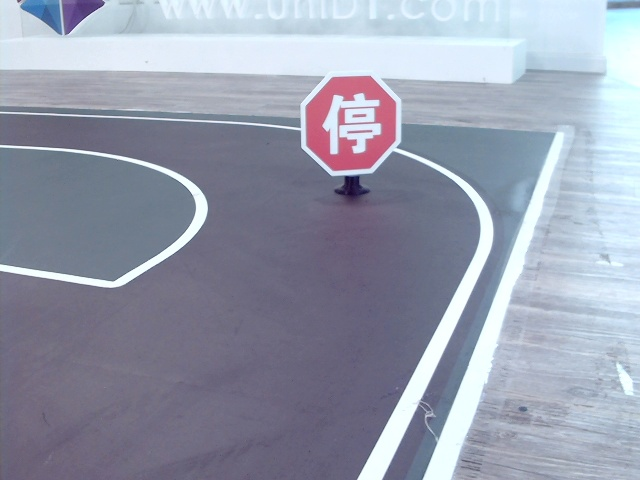stop: (319, 92, 384, 154)
